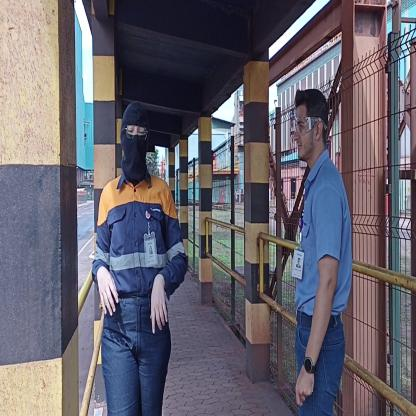Balaclava: (120, 102, 150, 174)
Operacional: (94, 176, 185, 292)
